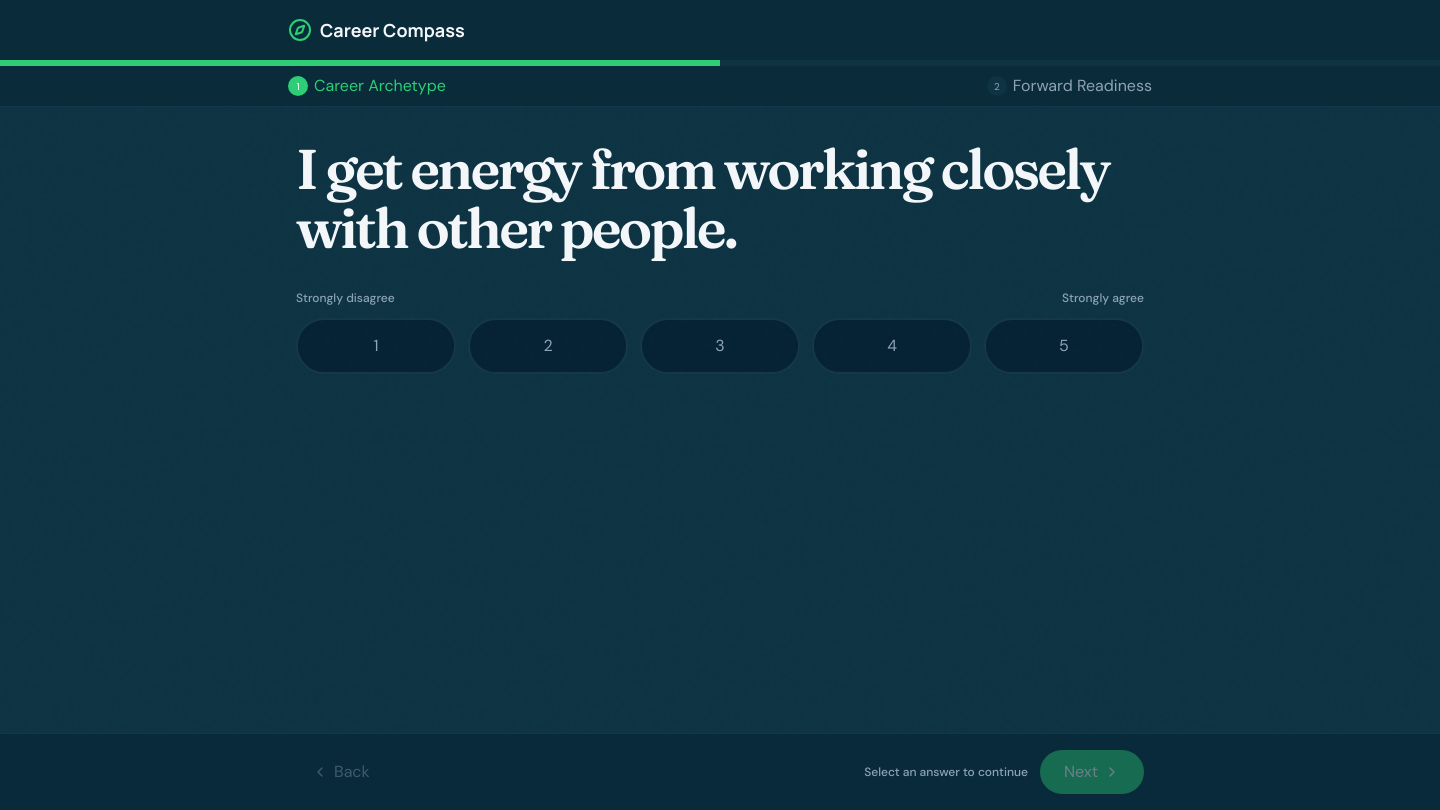
Test case: CareerCompassAssessmentPage › does not navigate on a failed completeAssessment, then navigates with the exact result shape after a successful retry
Later steps or results of the test are not shown.
Click the button "3" at (720, 346), box 640,318 -> 800,374
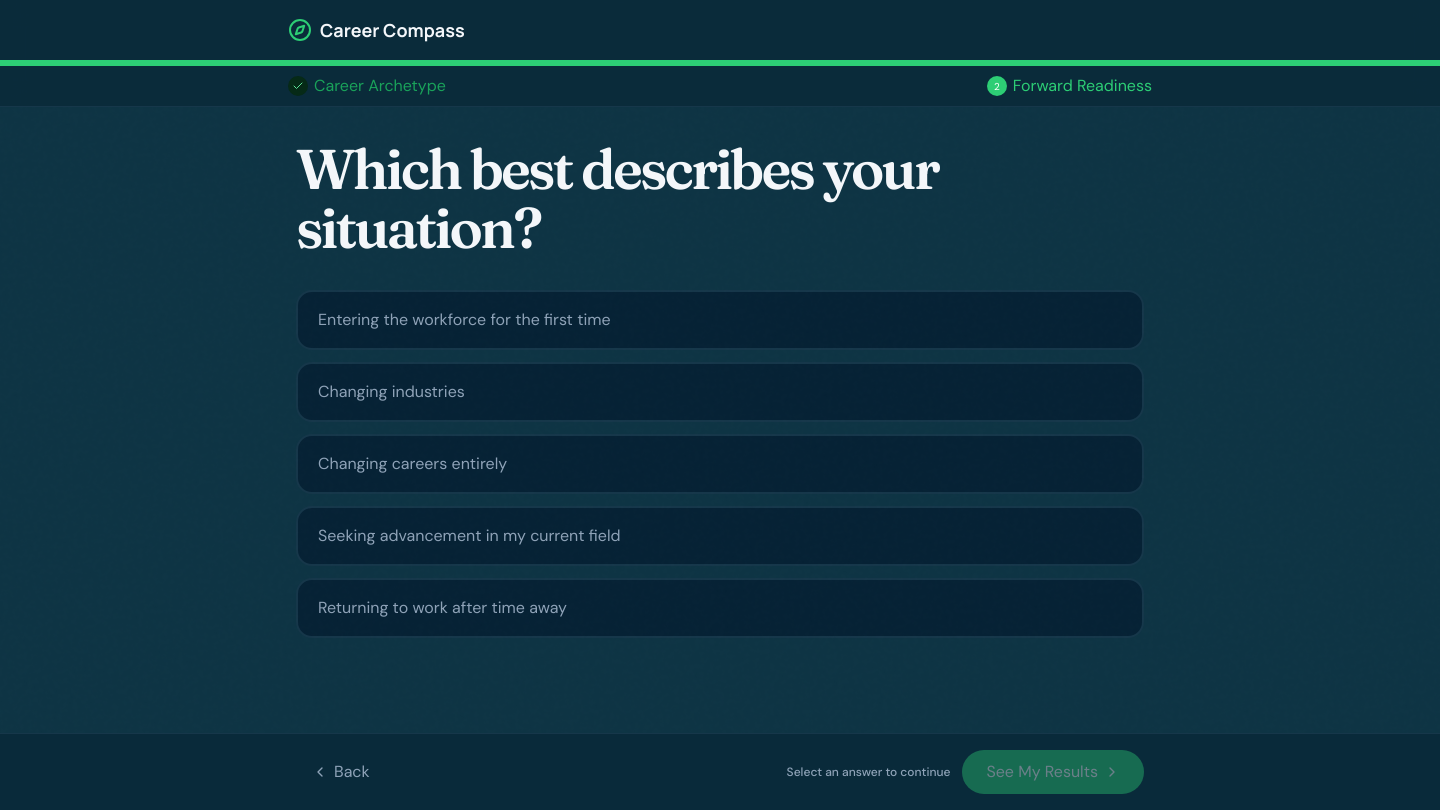
Check: the heading "Which best describes your situation?" is shown, box 296,134 -> 938,262
# Answering the final question triggers completion, which fails.
Click the button "Entering the workforce for the first time" at (464, 319), box 296,290 -> 1144,350
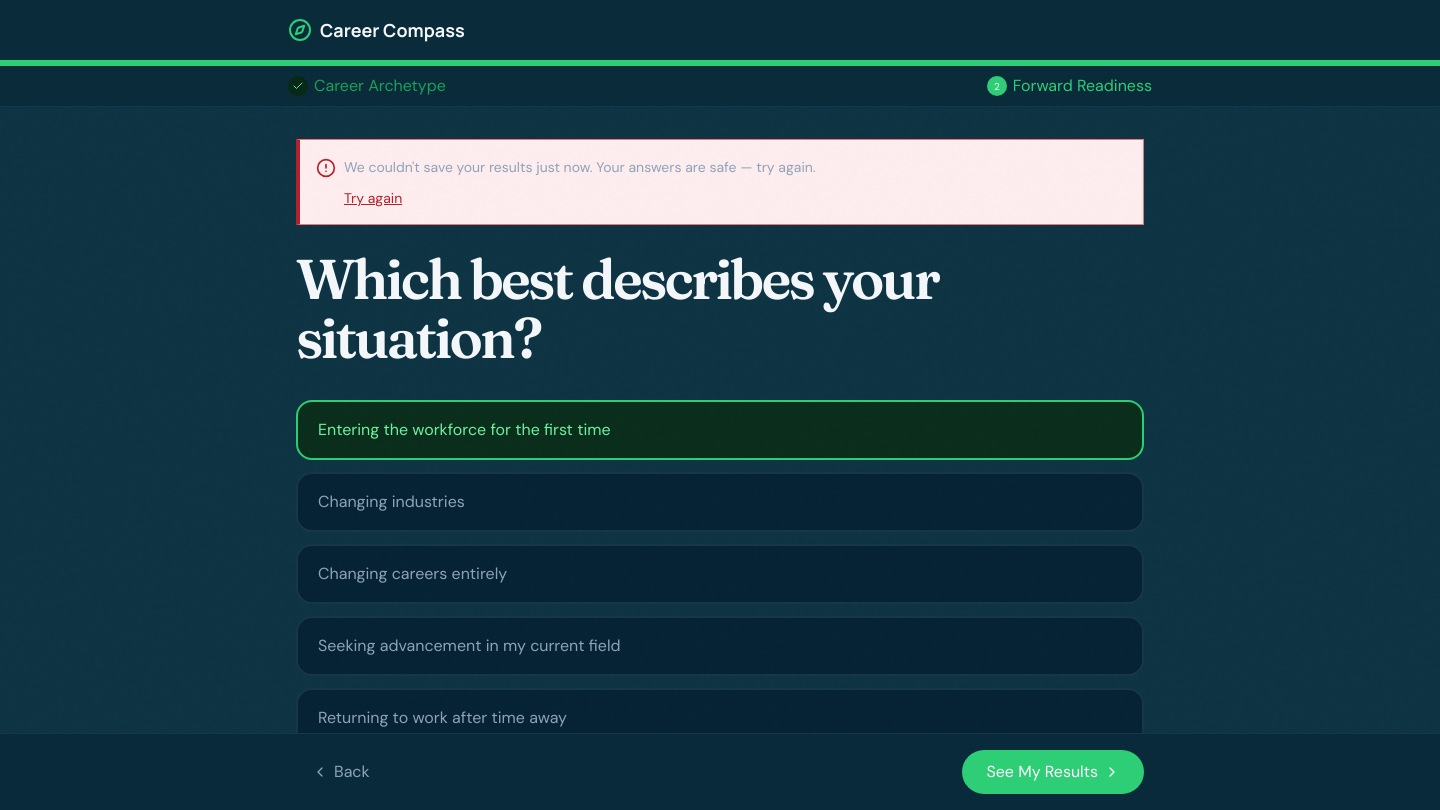
Check: the text "couldn't save your results" is shown, box 344,158 -> 816,176
